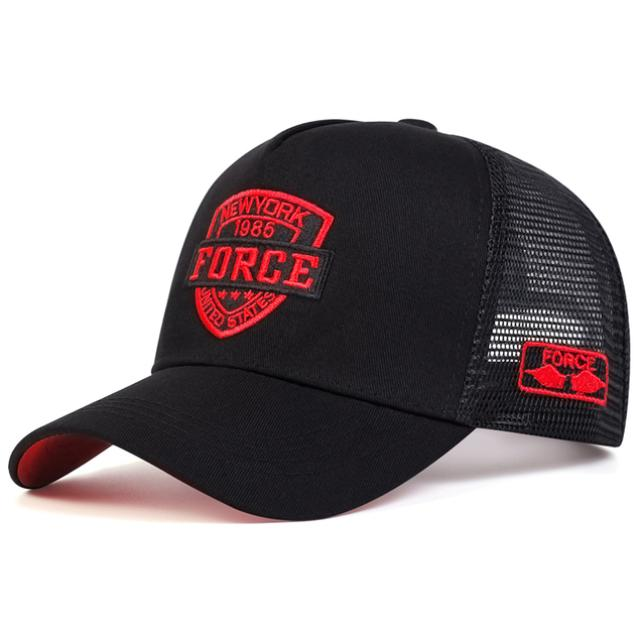Nonhelmet: (8, 114, 631, 521)
